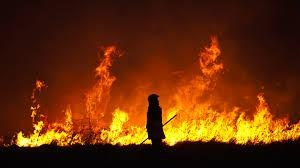fire: (10, 42, 245, 147)
